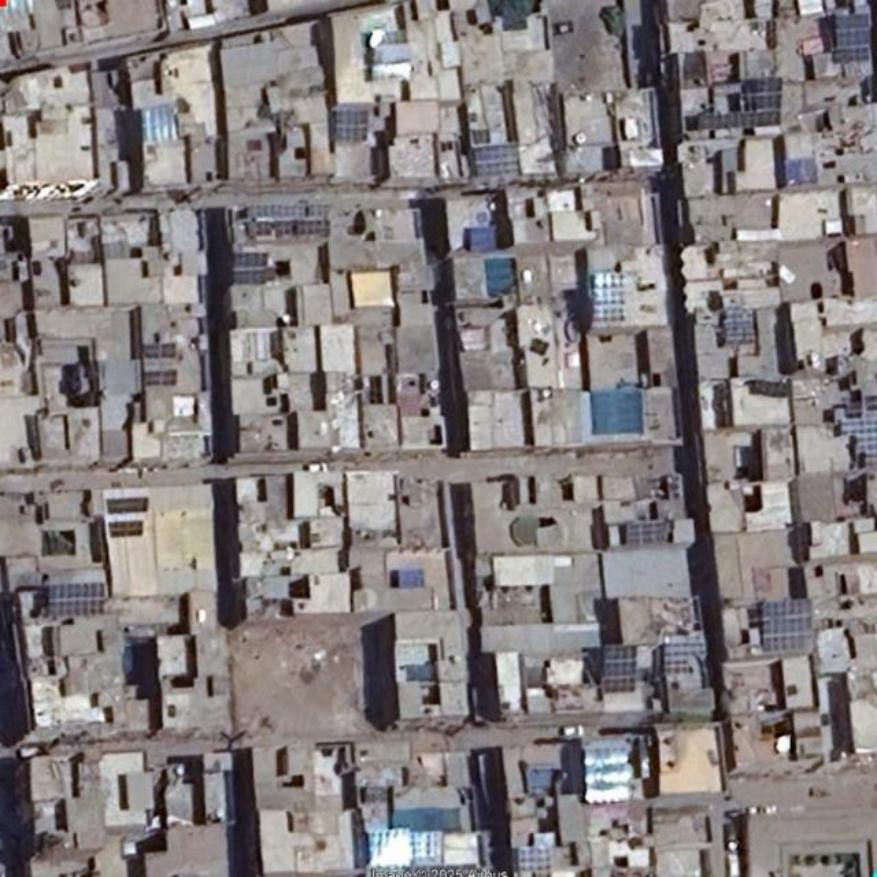Solarpanel: (368, 830, 444, 866), (762, 596, 812, 648), (583, 748, 629, 803), (740, 76, 782, 126), (834, 11, 874, 61), (48, 582, 103, 616), (601, 645, 636, 693), (472, 144, 520, 177), (842, 420, 876, 465), (592, 270, 623, 318), (723, 309, 756, 347), (230, 253, 268, 285), (250, 205, 330, 220), (332, 110, 368, 142), (625, 520, 670, 542), (520, 847, 552, 876), (108, 497, 149, 514), (144, 342, 176, 359), (142, 370, 177, 384), (110, 521, 145, 533)
